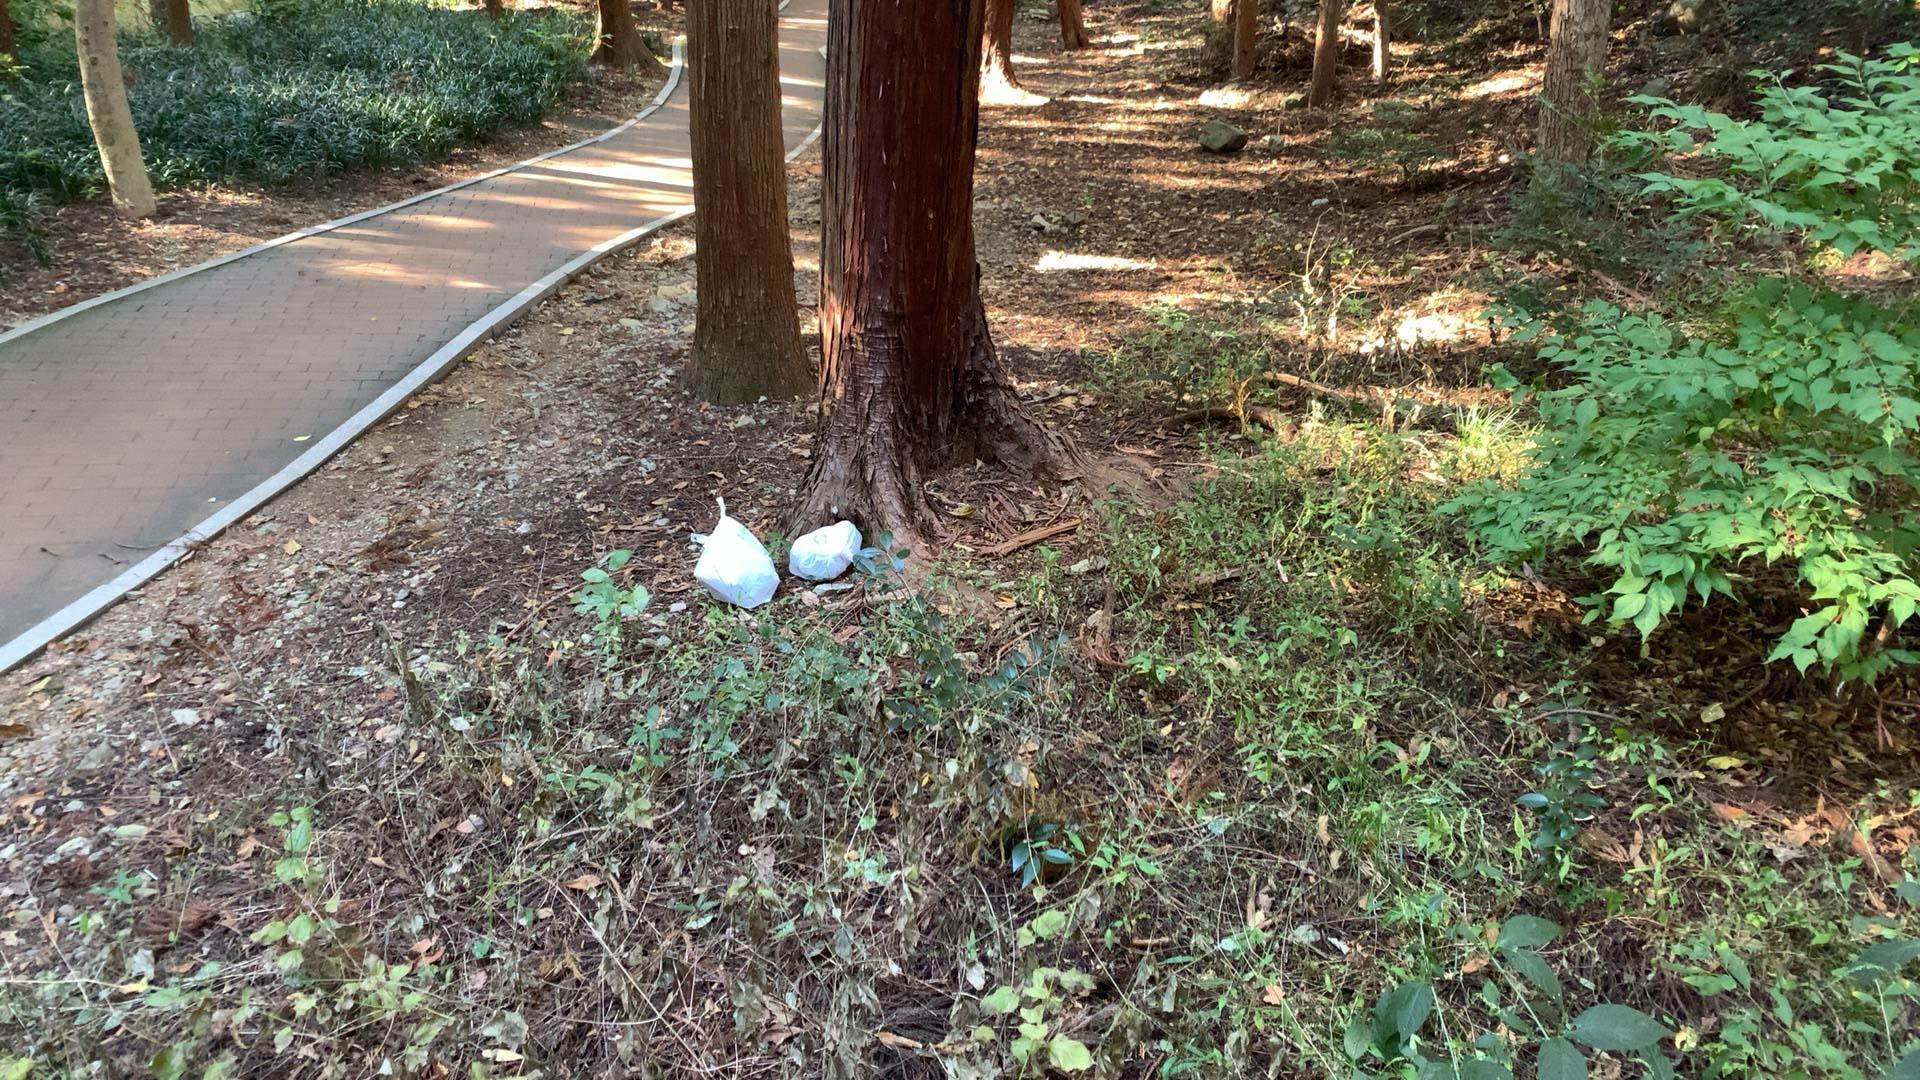white_bag: (680, 495, 787, 616), (785, 518, 893, 582)
